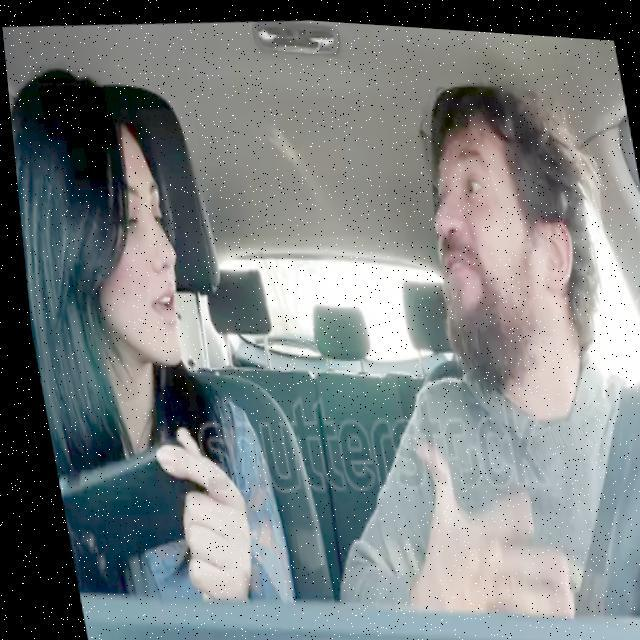PhoneCall: (44, 432, 212, 576)
